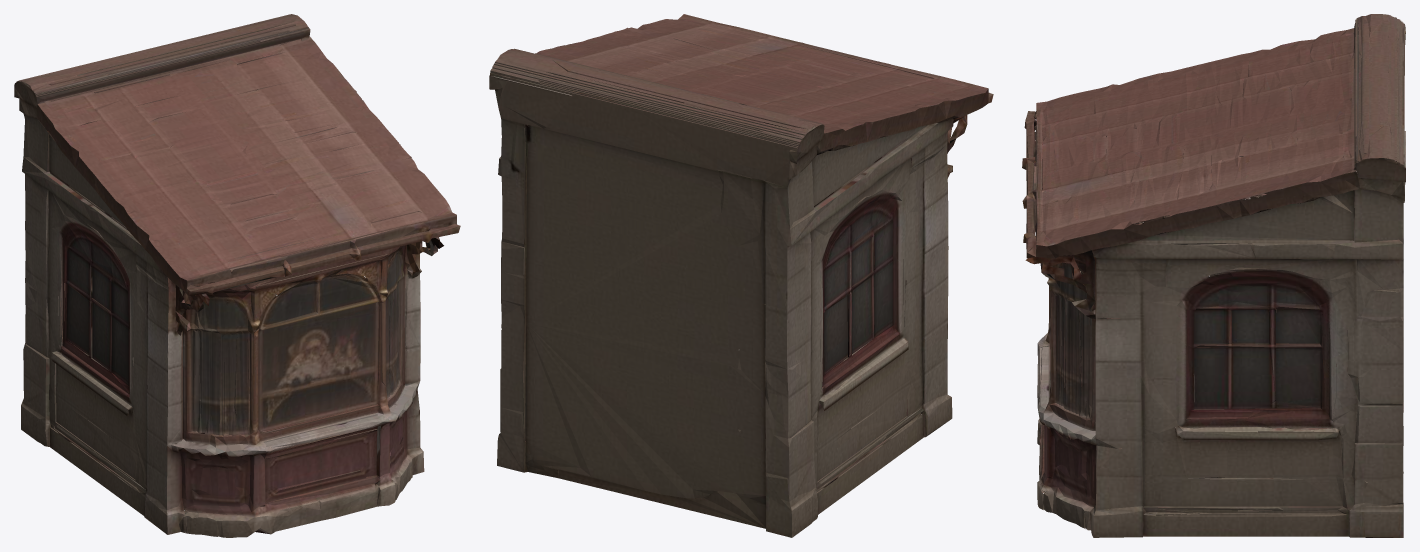
The model's file is park_doll_shop_1117.glb.
3 views of the same model, side by side, from view 1: azimuth 30°, elevation 25°; view 2: azimuth 150°, elevation 25°; view 3: azimuth 270°, elevation 25° (orthographic). The views are drawn at different scales.
Parts seen in each view (by area): view 1: world; view 2: world; view 3: world.
Boxes of the visible parts, x1,y1,x2,y2 form: world: (14, 14, 460, 537); world: (489, 14, 993, 537); world: (1022, 14, 1405, 537).
Size of the model in its own units: 0.8087 by 1 by 0.9042.
1 material, 1 textured.
